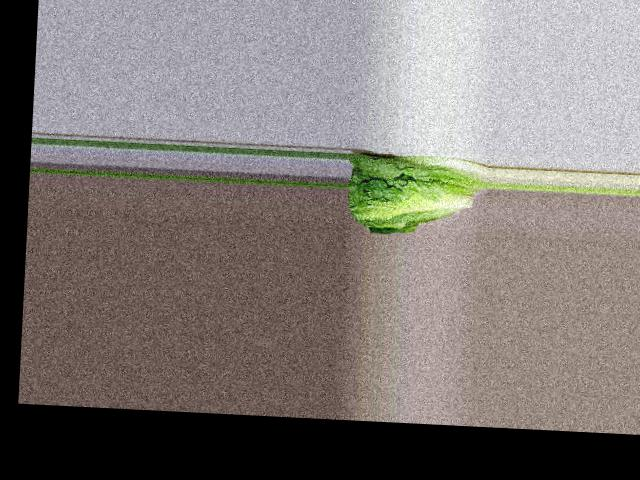lettuce: (345, 148, 482, 229)
